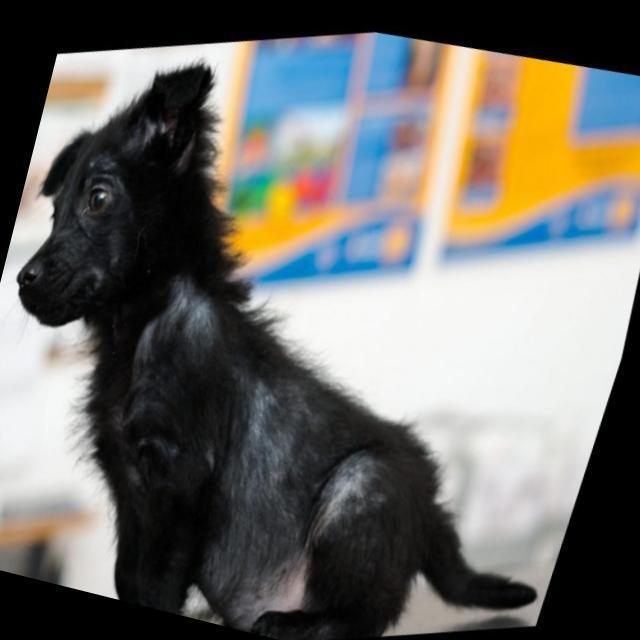mange: (208, 369, 390, 630)
